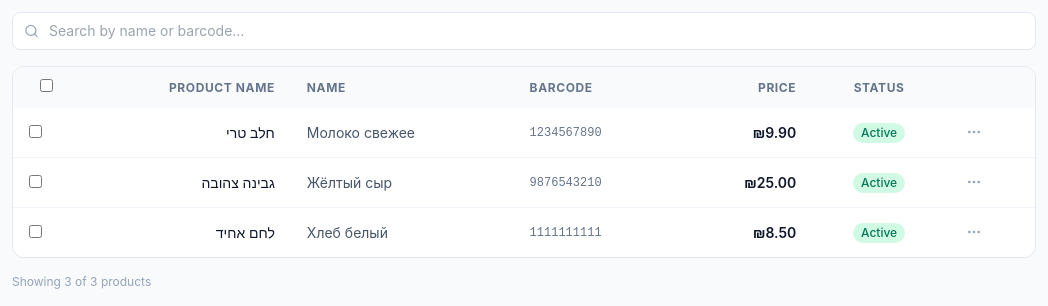
it: ProductsTable — search filtering › filters by Russian name (case-insensitive) after debounce
This screenshot has width=1048, height=306.
Type "сыр" into the field with placeholder "Search by name or barcode…" at (524, 31), box left=12, top=12, right=1036, bottom=50
Wait 200 ms
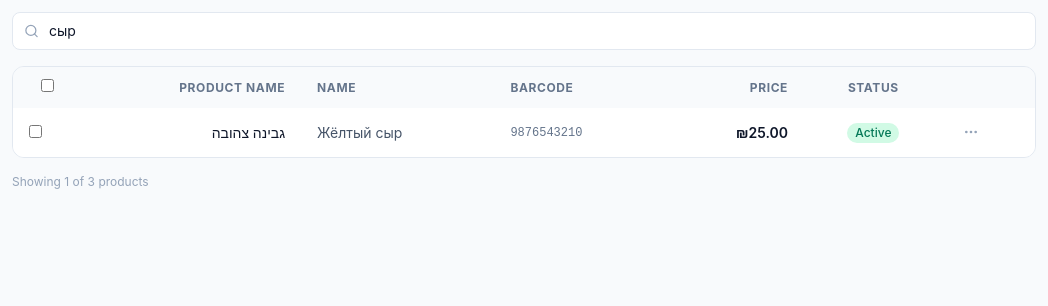
Check: the text "Жёлтый сыр" is shown, box left=301, top=108, right=494, bottom=157
Check: the text "Молоко свежее" is gone
